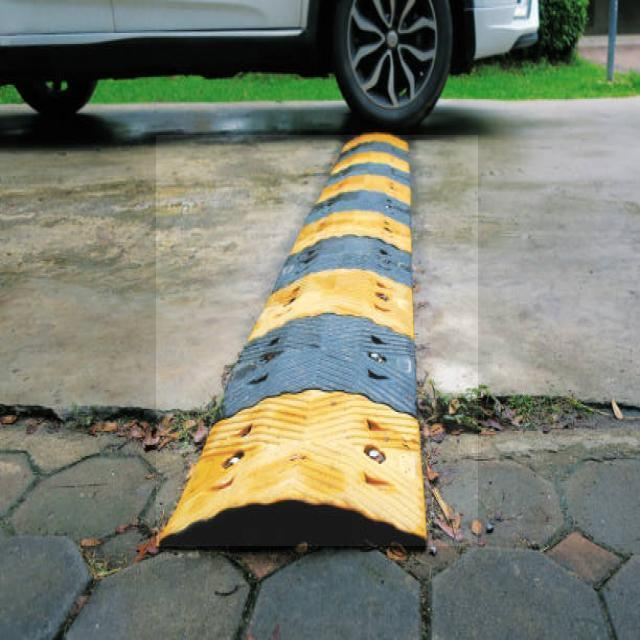Marked Bump: (203, 130, 440, 548)
